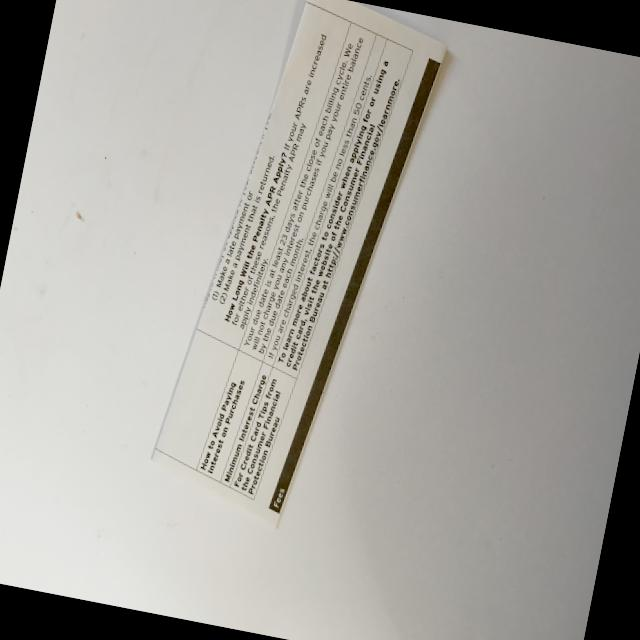Paper: (121, 0, 461, 572)
